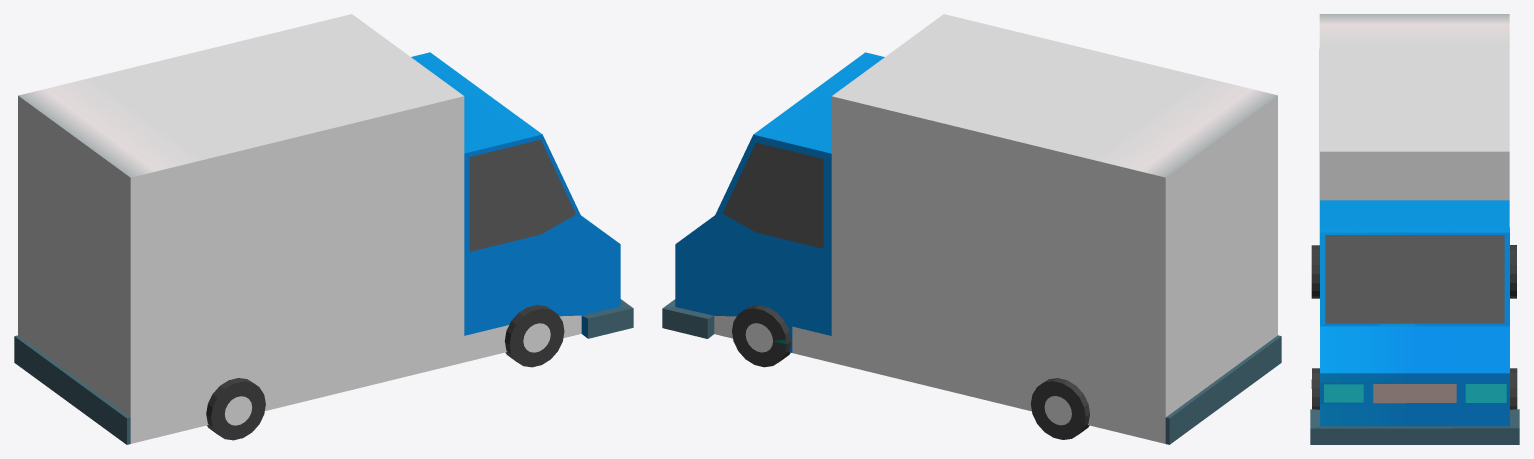
Rendered from car_2_1.dae.
3 views of the same model, side by side, from view 1: azimuth 30°, elevation 25°; view 2: azimuth 150°, elevation 25°; view 3: azimuth 270°, elevation 25° (orthographic). The views are drawn at different scales.
Parts seen in each view (by area): view 1: Car_08.009; view 2: Car_08.009; view 3: Car_08.009.
Boxes of the visible parts, x1,y1,x2,y2 form: Car_08.009: [14, 14, 633, 444]; Car_08.009: [662, 14, 1281, 444]; Car_08.009: [1310, 14, 1519, 444].
Bounding box in the file's own units: 5.56 × 2.38 × 3.
Materials: 1 (1 with a texture image).
